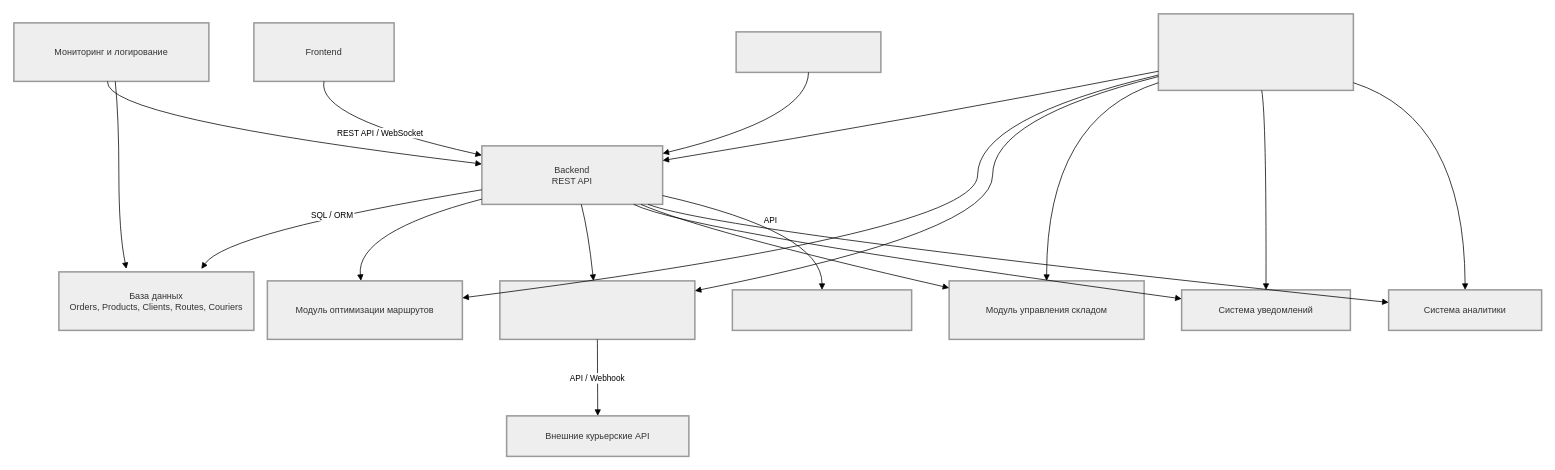
Image size: 1555x470. Some labels were removed from this diagram. Here are the shapes that lost their labels. From the top down, the box of each, then its label:
(735, 31, 881, 73): Модуль возвратов
(1157, 13, 1354, 91): Микросервисная инфраструктура / Load Balancer
(499, 280, 695, 340): Модуль интеграции с курьерскими службами
(731, 289, 912, 331): Платежные системы API
